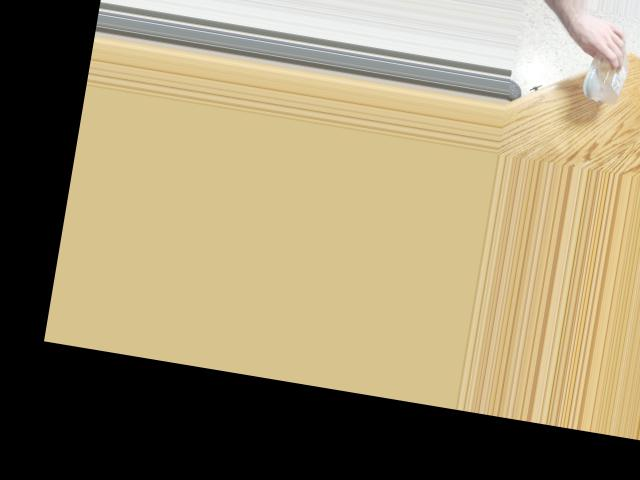cheese: (578, 34, 634, 94)
